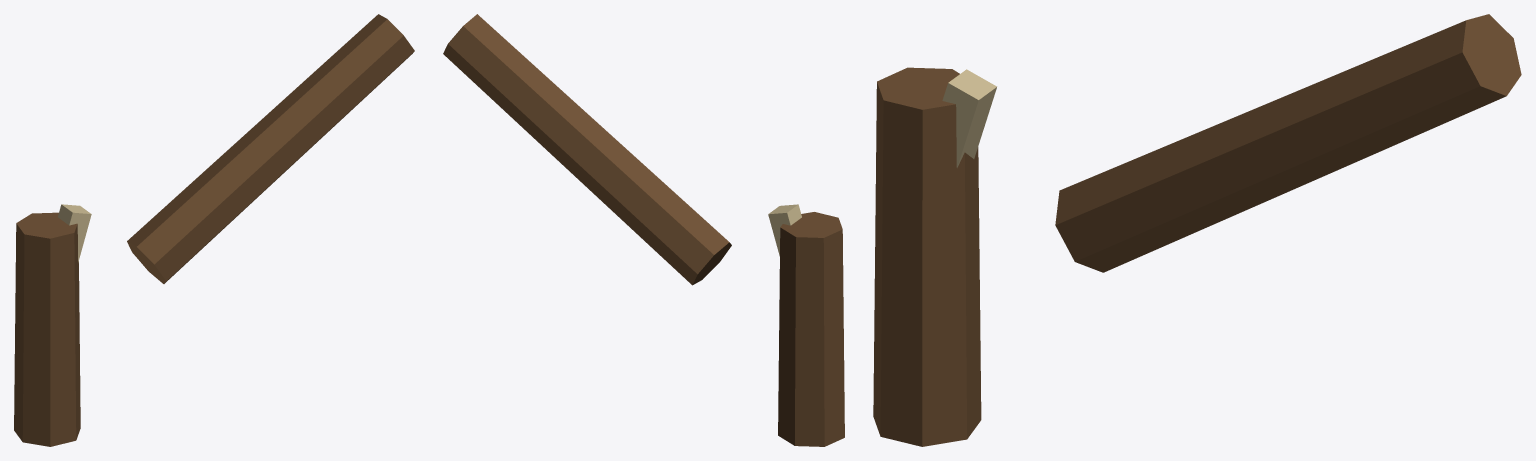
Rendered from s3_mine_beam_broken.glb.
3 renders of one model, left to right at view 1: azimuth 30°, elevation 25°; view 2: azimuth 150°, elevation 25°; view 3: azimuth 330°, elevation 25°, orthographic. The views are drawn at different scales.
Visible parts, largest first — view 1: s3_mine_beam_broken; view 2: s3_mine_beam_broken; view 3: s3_mine_beam_broken.
Boxes of the visible parts, <box> form: s3_mine_beam_broken: <box>14,14,414,446</box>; s3_mine_beam_broken: <box>443,14,844,446</box>; s3_mine_beam_broken: <box>873,14,1521,446</box>.
Size of the model in its own units: 1.97 by 1.61 by 0.2851.
